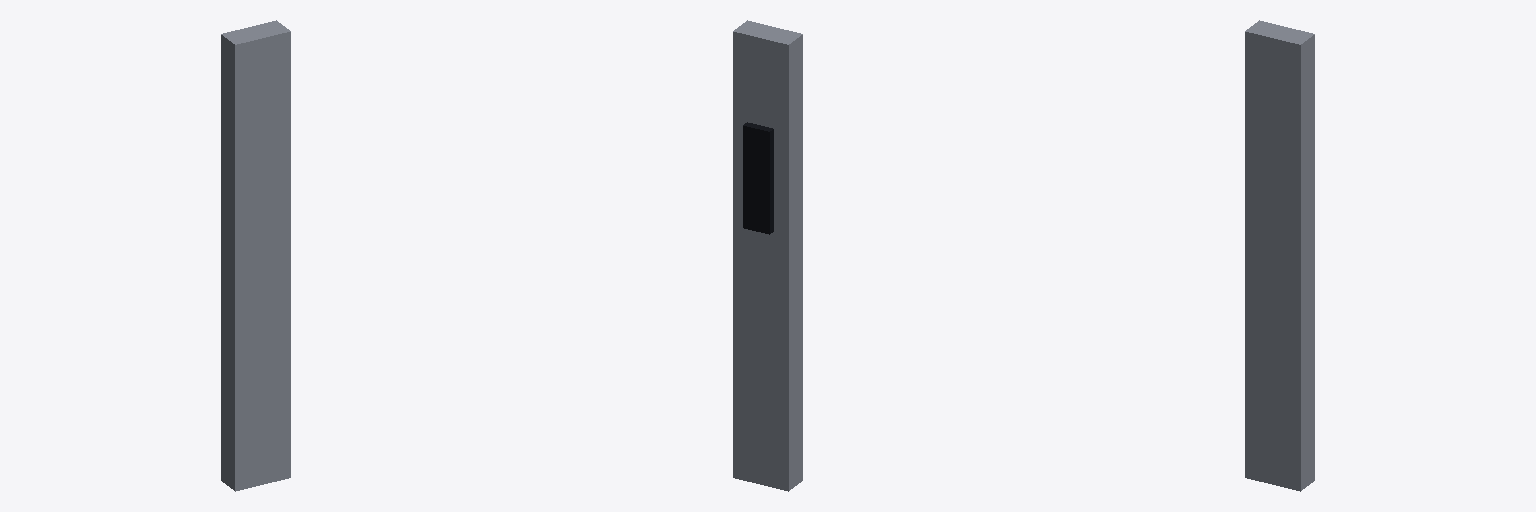
URDF robot description (artmanip_knife_022):
<?xml version='1.0' encoding='utf-8'?>
<robot name="artmanip_knife_022"><link name="link_0"><inertial><mass value="0.029" /><inertia ixx="4.978138432246626e-05" iyy="5.0452571119596234e-05" izz="1.0304600234210936e-06" ixy="0" ixz="0" iyz="0" /></inertial><visual><geometry><box size="0.018763391469144304 0.008621623492500707 0.14326500312741497" /></geometry><material name="link_0_color"><color rgba=".58 .60 .64 1" /></material></visual><collision><geometry><box size="0.018763391469144304 0.008621623492500707 0.14326500312741497" /></geometry></collision></link><link name="link_1"><inertial><mass value="0.006" /><inertia ixx="5.467958414399855e-07" iyy="5.850503681565897e-07" izz="4.479399776523467e-08" ixy="0" ixz="0" iyz="0" /></inertial><visual><geometry><box size="0.009113096316940735 0.00255723895024117 0.03297047484995235" /></geometry><material name="link_1_color"><color rgba=".12 .13 .15 1" /></material></visual><collision><geometry><box size="0.009113096316940735 0.00255723895024117 0.03297047484995235" /></geometry></collision></link><joint name="slider" type="prismatic"><parent link="link_0" /><child link="link_1" /><origin xyz="0.0 0.005589431221370939 0.027136775143552977" /><axis xyz="0 0 1" /><limit lower="-0.04862652561266522" upper="0.0013734743873347818" effort="100" velocity="1" /><dynamics damping="1000" friction="0.001" /></joint></robot>

--- Facts derived from the render (not from the file) ---
The picture shows the robot from 3 angles, left to right: view 1: azimuth 30°, elevation 25°; view 2: azimuth 150°, elevation 25°; view 3: azimuth 330°, elevation 25°; orthographic projection.
Robot: artmanip_knife_022 — 2 links, 1 joints (1 prismatic); root link link_0; default pose: every joint at zero.
Visible links, largest first — view 1: link_0; view 2: link_0, link_1; view 3: link_0.
Boxes of the visible links, x1,y1,x2,y2 form: link_0: (221, 20, 290, 491); link_0: (733, 20, 802, 491); link_1: (743, 122, 773, 234); link_0: (1245, 20, 1314, 491).
Size in the robot's own frame: 0.0188 by 0.0112 by 0.1433 metres.
Geometry: primitives only (box / cylinder / sphere), no mesh files.
